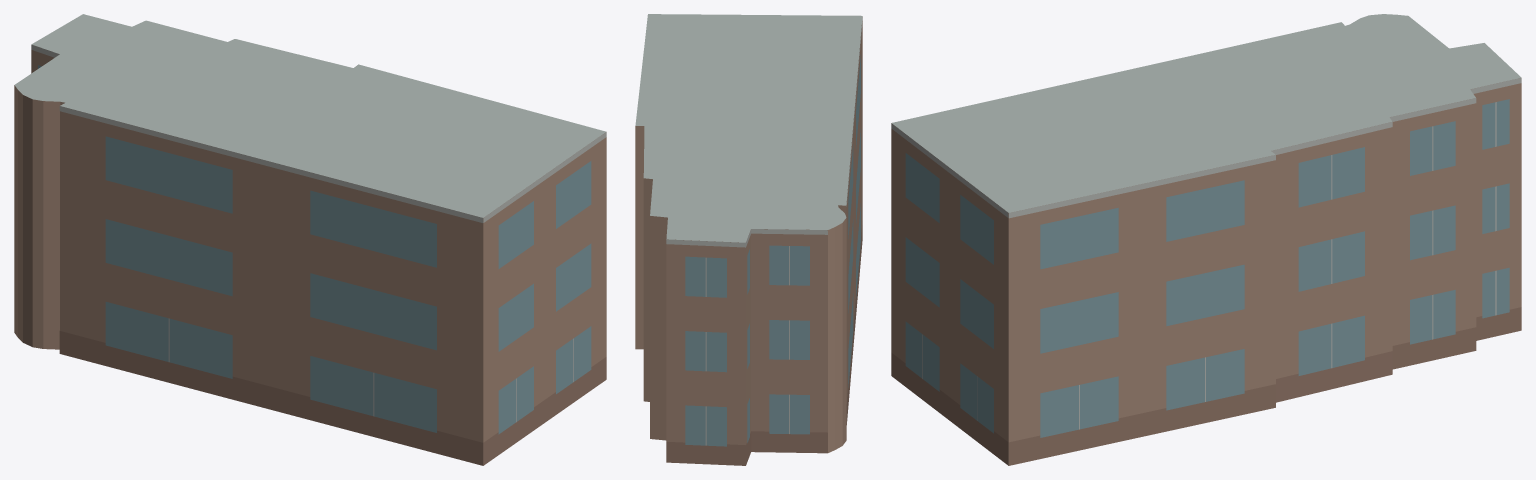
File: survey-upis-32745848.glb
3 views of the same model, side by side, from view 1: azimuth 30°, elevation 25°; view 2: azimuth 150°, elevation 25°; view 3: azimuth 270°, elevation 25° (orthographic). The views are drawn at different scales.
Visible parts, largest first — view 1: survey-upis-32745848.tmp; view 2: survey-upis-32745848.tmp; view 3: survey-upis-32745848.tmp.
Boxes of the visible parts, left/top/right/bottom form: survey-upis-32745848.tmp: left=14, top=14, right=606, bottom=465; survey-upis-32745848.tmp: left=635, top=14, right=862, bottom=465; survey-upis-32745848.tmp: left=891, top=14, right=1521, bottom=465.
Bounding box in the file's own units: 19.25 × 11.4 × 25.76.
